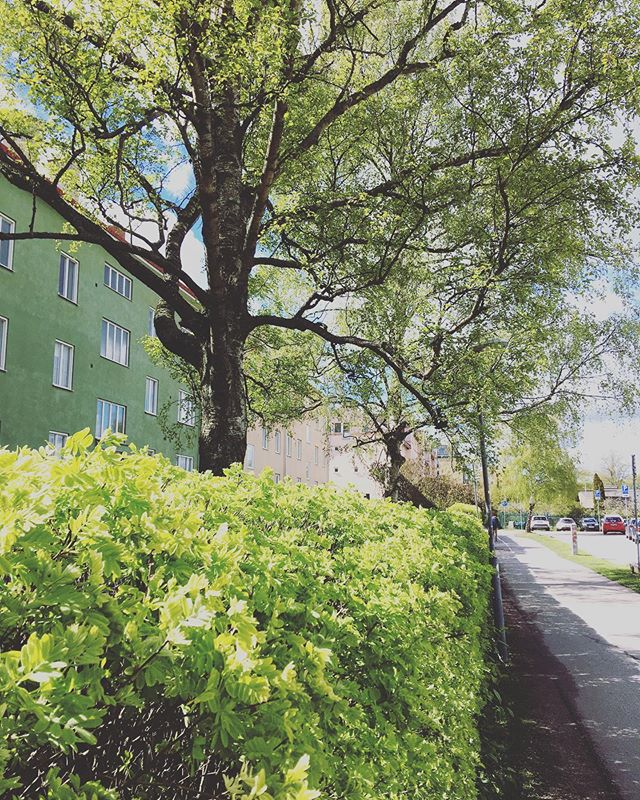building: (1, 193, 221, 474), (226, 354, 327, 496)
tree: (15, 1, 587, 447)
vegetation: (1, 482, 498, 800)
